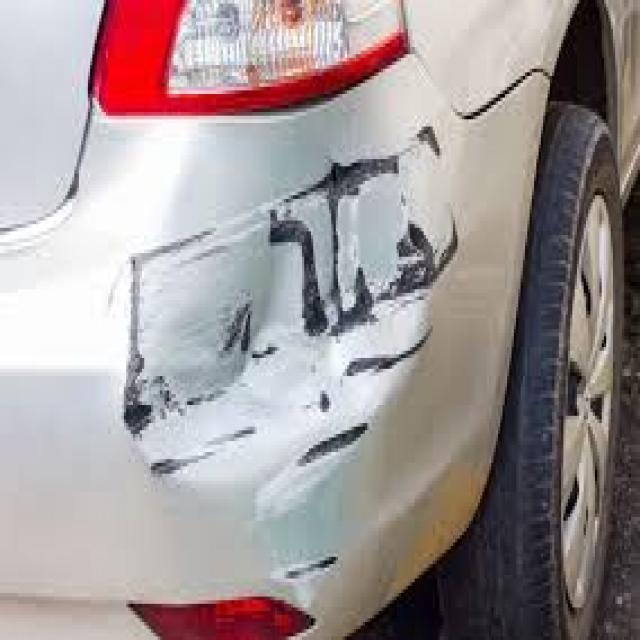minor: (103, 132, 461, 487)
